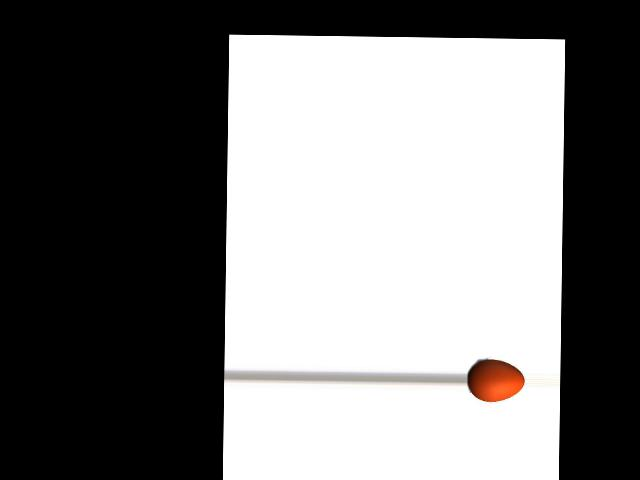egg: (467, 358, 524, 402)
